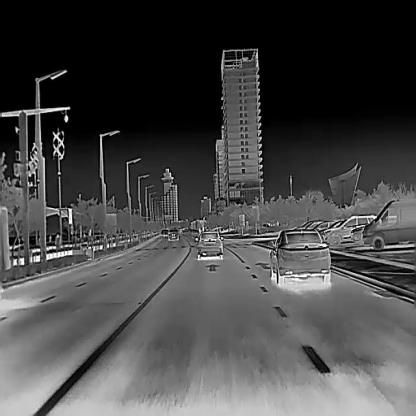car: (267, 228, 330, 283), (363, 198, 415, 248), (322, 212, 381, 245), (194, 230, 224, 259), (166, 228, 178, 240)
